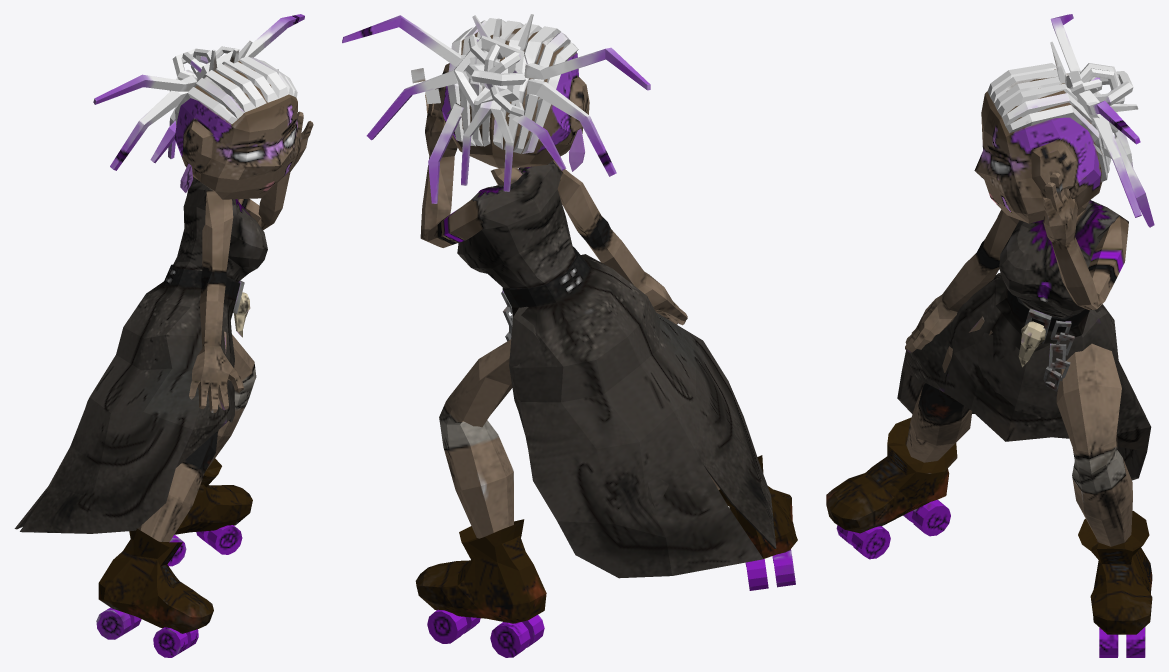
File: bruja_000060.obj
3 views of the same model, side by side, from view 1: azimuth 30°, elevation 25°; view 2: azimuth 150°, elevation 25°; view 3: azimuth 270°, elevation 25° (orthographic). The views are drawn at different scales.
Visible parts, largest first — view 1: Bruja_Plane.001; view 2: Bruja_Plane.001; view 3: Bruja_Plane.001.
Boxes of the visible parts, left/top/right/bottom form: Bruja_Plane.001: left=14, top=14, right=313, bottom=657; Bruja_Plane.001: left=342, top=14, right=797, bottom=657; Bruja_Plane.001: left=826, top=14, right=1154, bottom=657.
Size of the model in its own units: 10.13 by 15.42 by 7.72.
